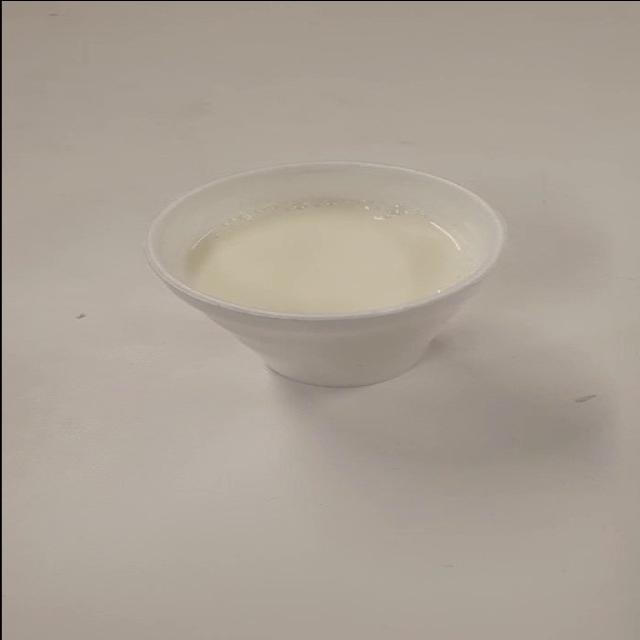Milk: (120, 153, 527, 401)
